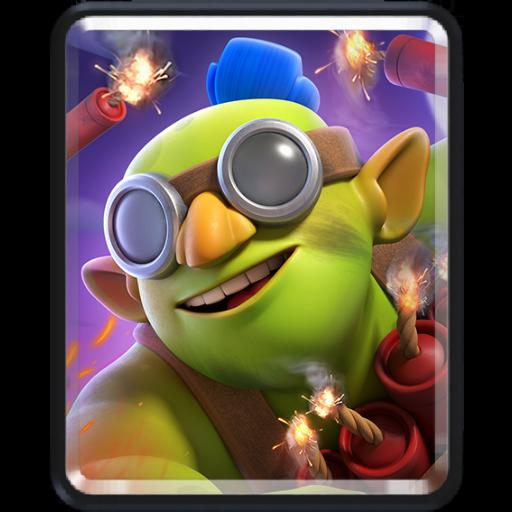goblin-demolisher: (74, 26, 446, 484)
